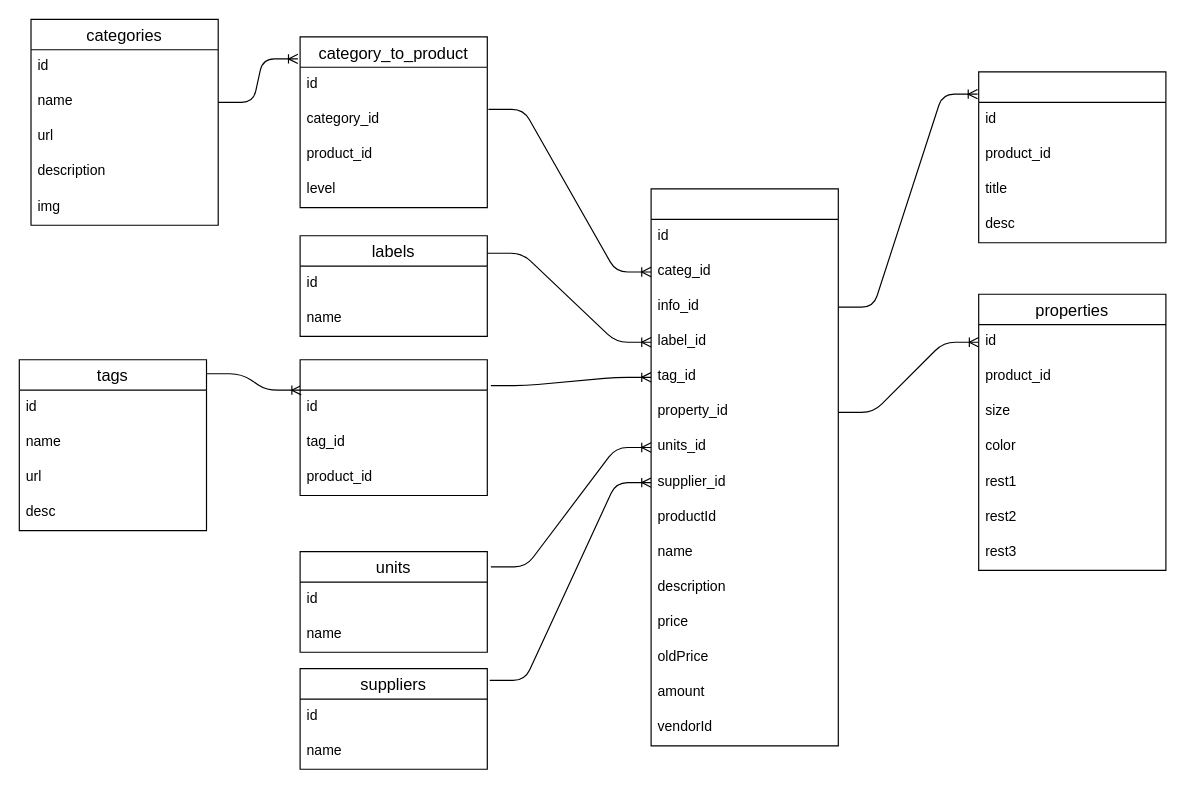
This 1185x789 diagram has some shape labels left out. The box of each missing label's shape, as (x1, y1, x2, y2) in pixels:
info: (978, 71, 1166, 243)
products: (650, 188, 838, 746)
tag_to_product: (299, 359, 487, 495)
